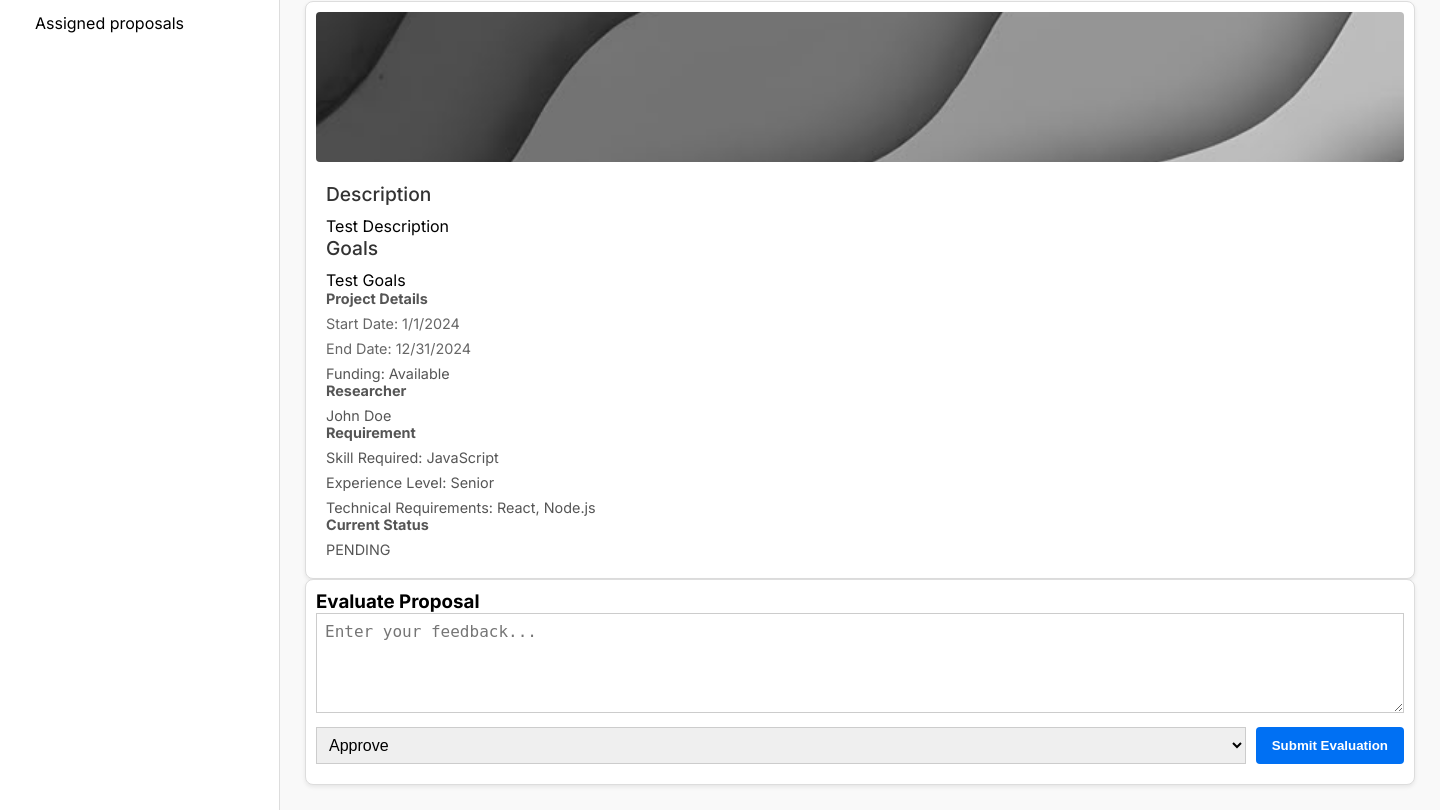
Scenario: PropInfoContent › handles review submission validation errors
(page scrolled)
Expected: the text box with placeholder "Enter your feedback..." is shown, [316,613,1404,713]
# Try to submit without feedback
Click the button "Submit Evaluation": [1330, 745] box [1256,727,1404,764]
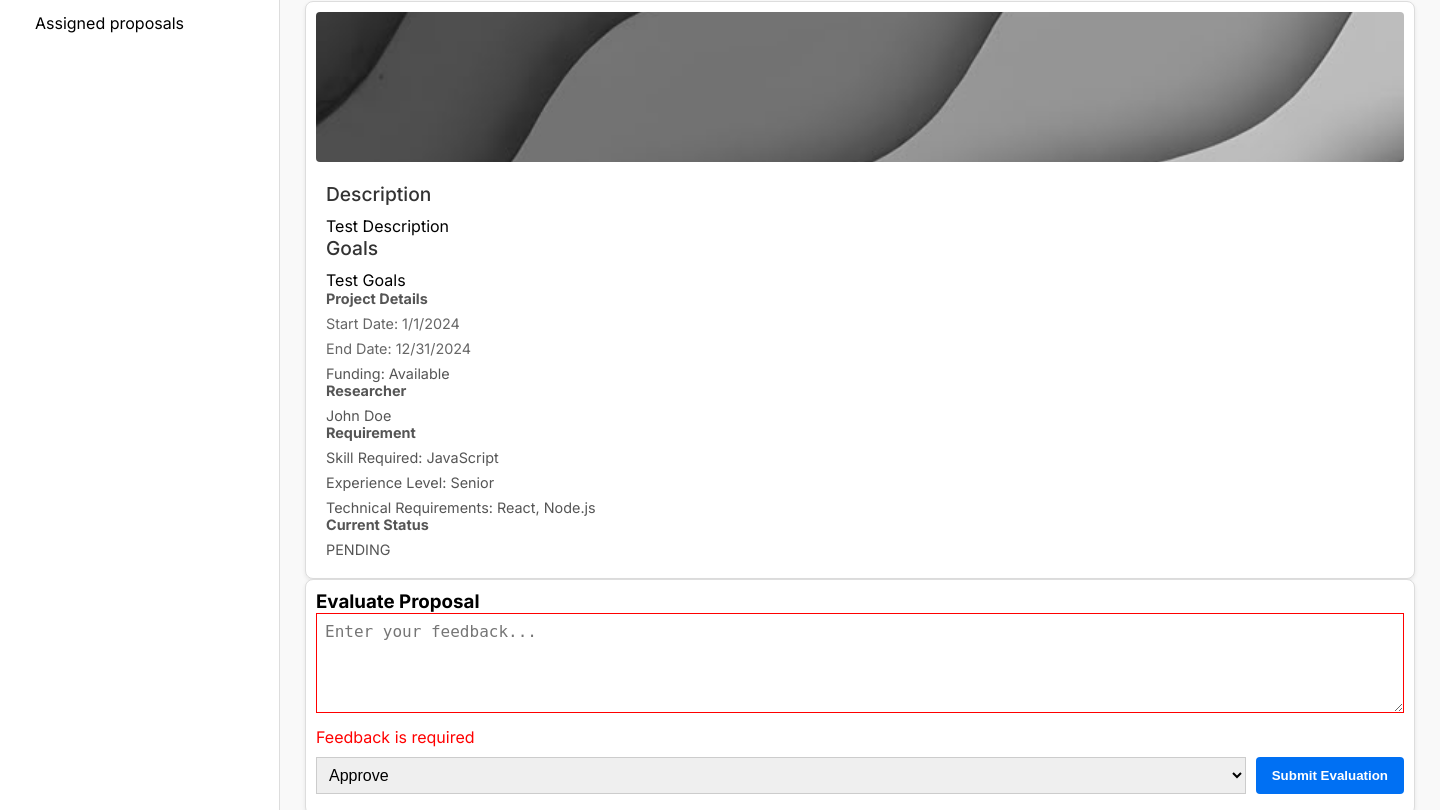
Result: the text "Feedback is required" is shown at [316,727,474,747]
# Try to submit with invalid outcome
Select "invalid" in the dropdown: [781, 775] box [316,757,1246,794]
Click the button "Submit Evaluation": [1330, 775] box [1256,757,1404,794]
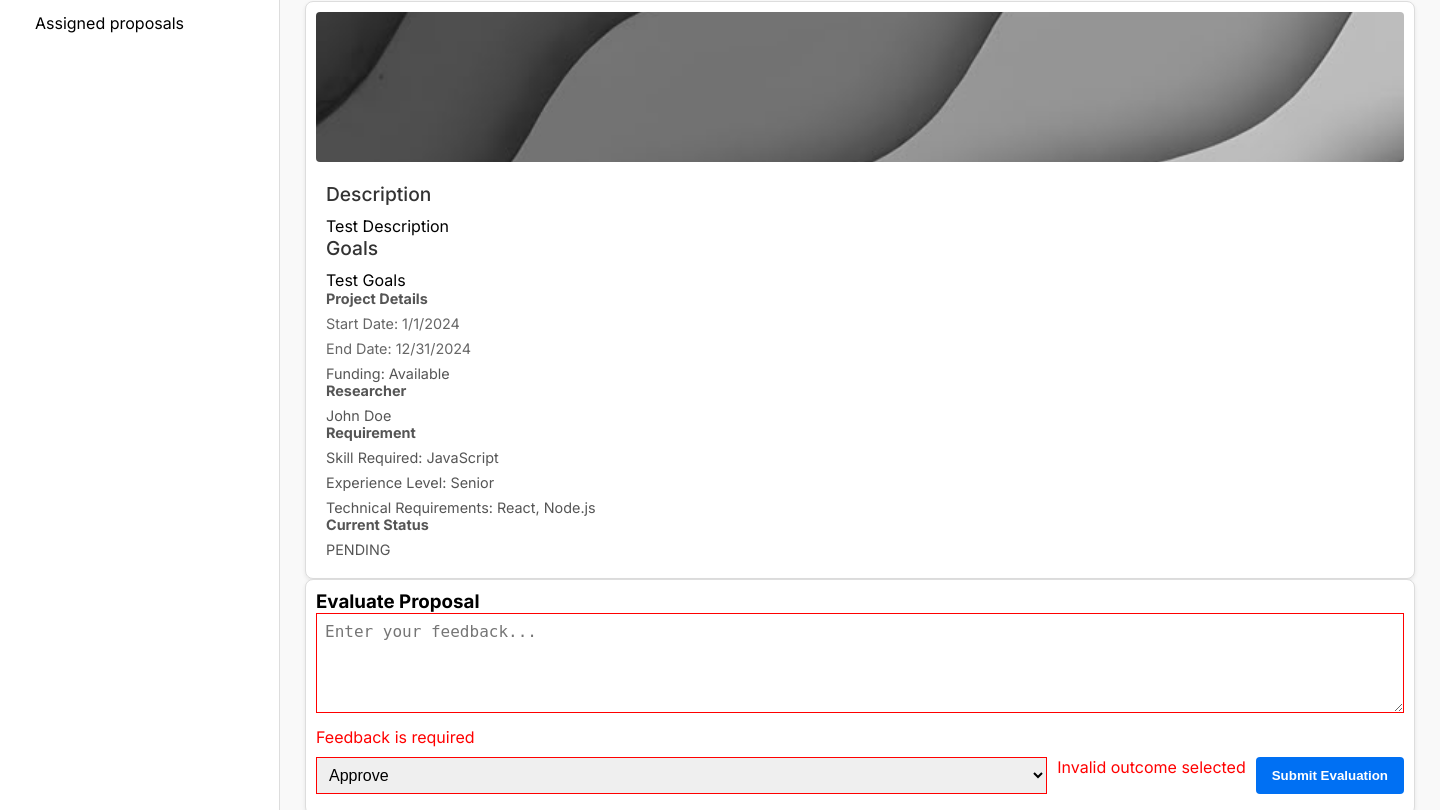
Result: the text "Invalid outcome selected" is shown at [1057,757,1246,777]
